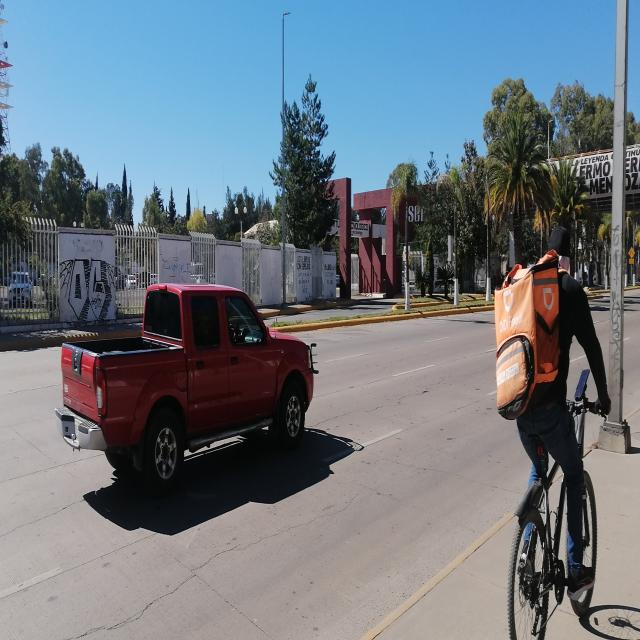Auto: (56, 276, 316, 487)
Peaton: (514, 220, 602, 470)
